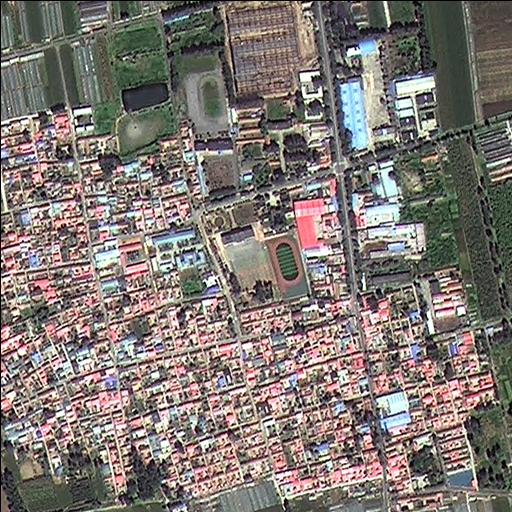school: (198, 196, 313, 313), (183, 62, 238, 197)
